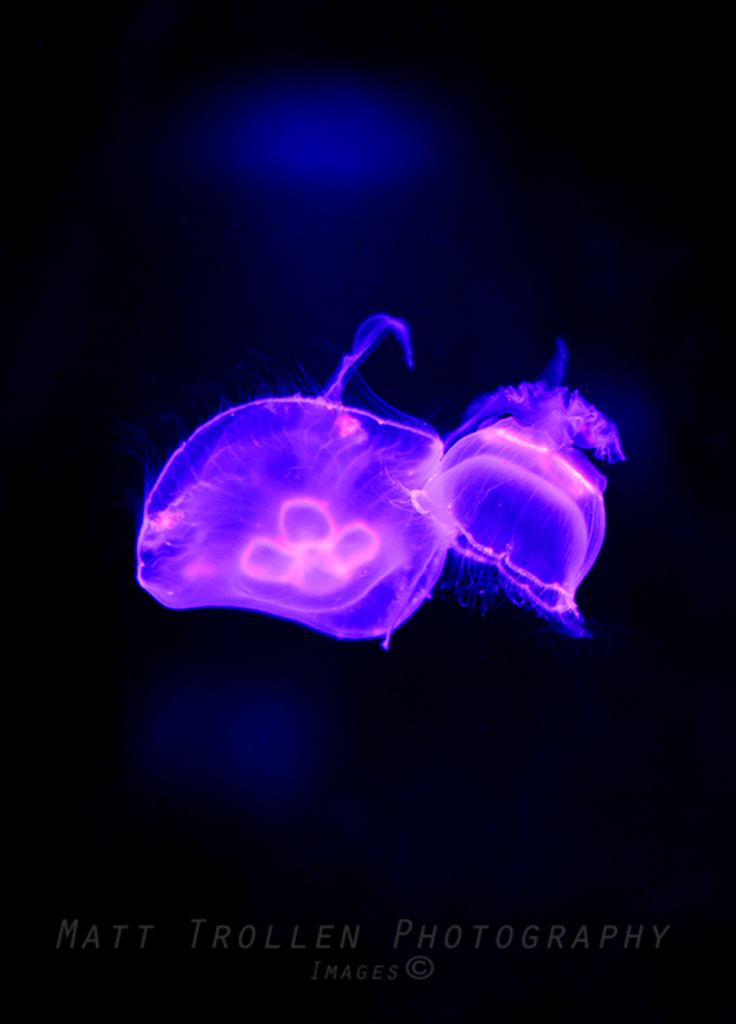Jellyfish: (126, 321, 522, 656), (385, 340, 619, 631)
